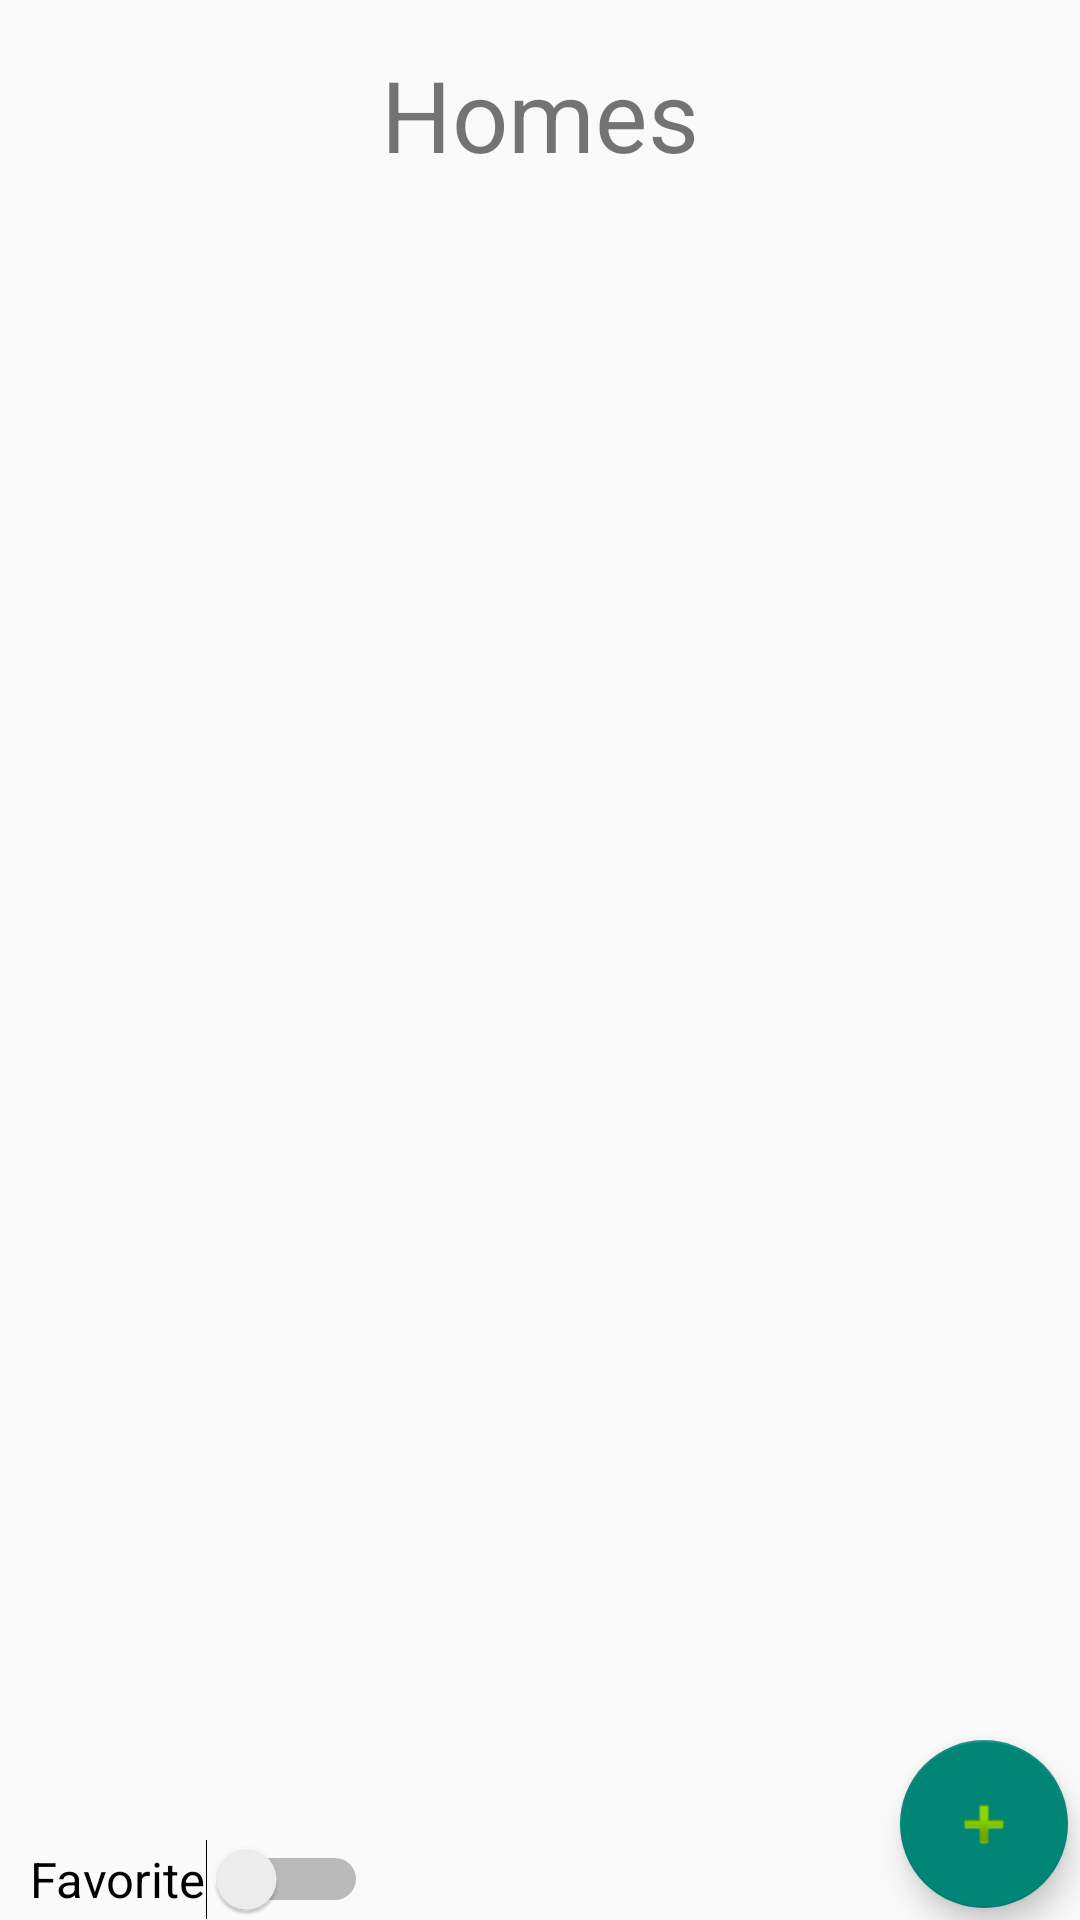

Locate icon controls on the screen. Image size 1080w x 1920h, boxes as (x1, y1, x2, y2).
add: (900, 1740, 1068, 1908)
